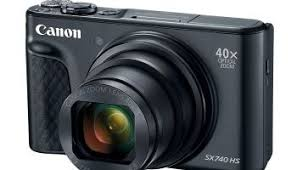camera: (26, 2, 273, 167)
